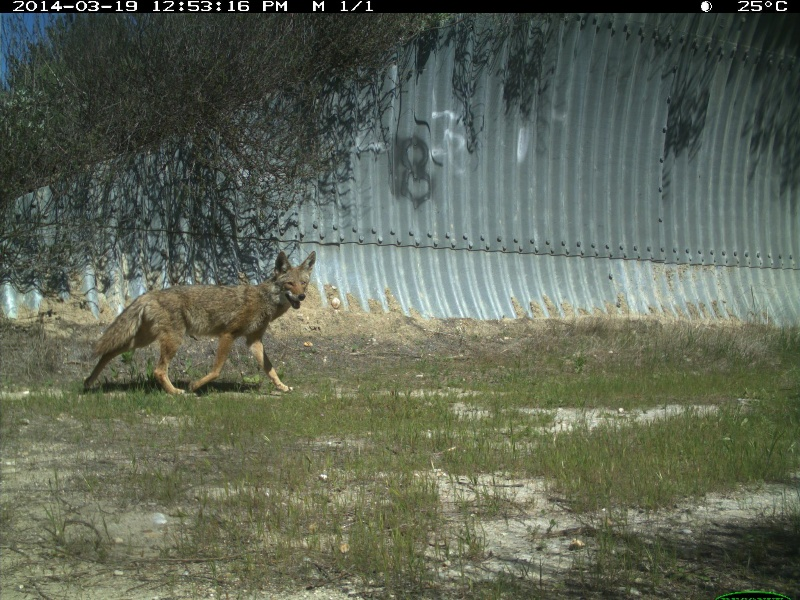coyote: (73, 247, 322, 401)
